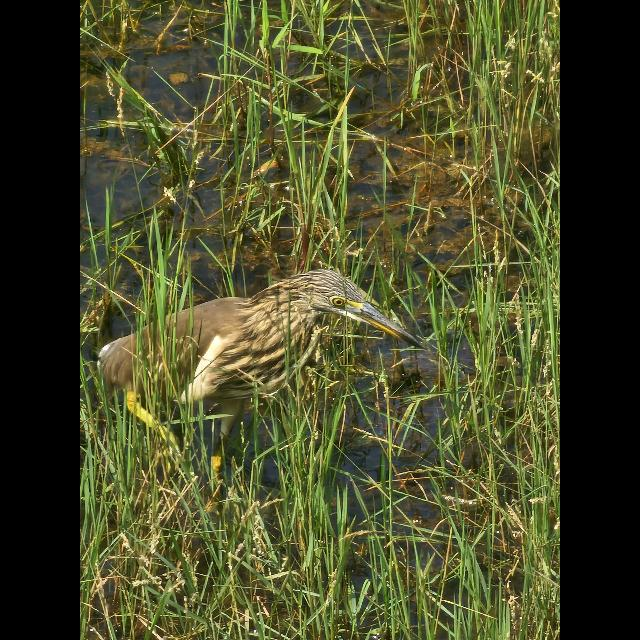heron: (98, 248, 430, 412)
